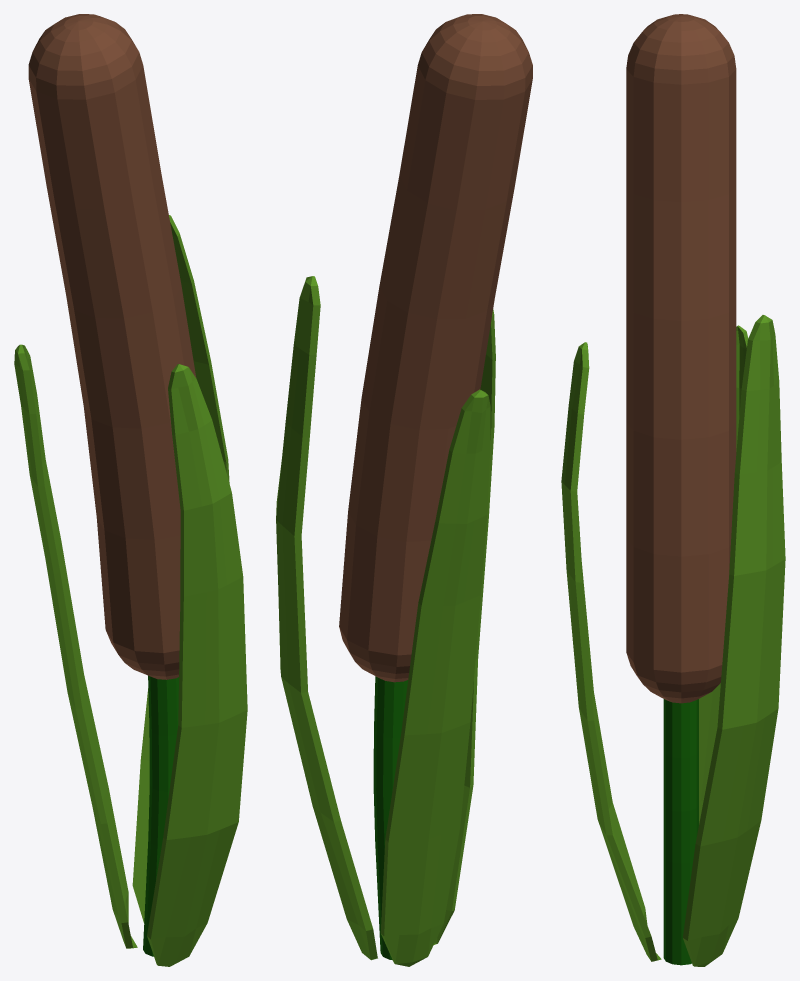
Rendered from flower2.fbx.
The picture shows the model from 3 angles, left to right: view 1: azimuth 30°, elevation 25°; view 2: azimuth 150°, elevation 25°; view 3: azimuth 270°, elevation 25°; orthographic projection. The views are drawn at different scales.
Visible parts, largest first — view 1: Sphere, Circle, Circle.002, Circle.001; view 2: Sphere, Circle.002, Circle.001, Circle; view 3: Sphere, Circle.001, Circle, Circle.002.
Boxes of the visible parts, x1,y1,x2,y2 form: Sphere: (28, 14, 196, 956); Circle: (147, 364, 247, 966); Circle.002: (14, 344, 137, 948); Circle.001: (132, 215, 229, 923); Sphere: (339, 14, 532, 960); Circle.002: (380, 389, 490, 966); Circle.001: (276, 276, 377, 960); Circle: (434, 309, 495, 944); Sphere: (626, 14, 736, 965); Circle.001: (683, 315, 785, 966); Circle: (561, 342, 661, 961); Circle.002: (699, 325, 748, 824).
Size of the model in its own units: 86.76 by 356 by 79.51.
